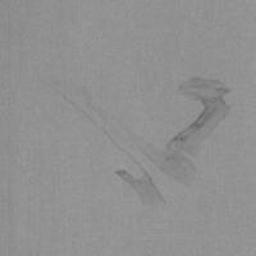Water spot: (28, 60, 233, 207)
